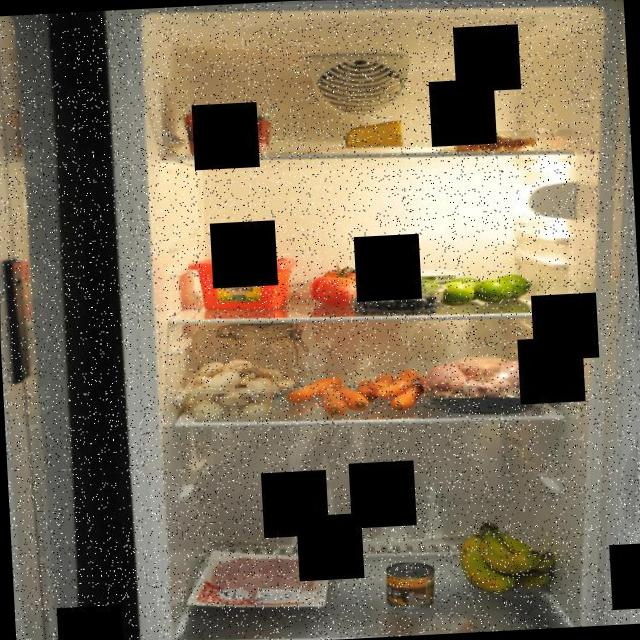Carne cerdo: (211, 547, 335, 616)
Carne pollo: (416, 348, 550, 418)
Champiñones: (185, 355, 279, 428)
Gambas/Langostinos: (458, 128, 536, 154)
Mantequilla: (194, 252, 296, 320)
Plátano: (449, 513, 563, 601)
Queso: (340, 117, 408, 154), (397, 266, 460, 294)
Tomate: (305, 255, 410, 312)
Zanahoria: (284, 362, 431, 422)
blueberries: (349, 280, 446, 318)
corn: (380, 557, 442, 610)
flour: (213, 316, 316, 410)
strawberries: (174, 100, 279, 164)
